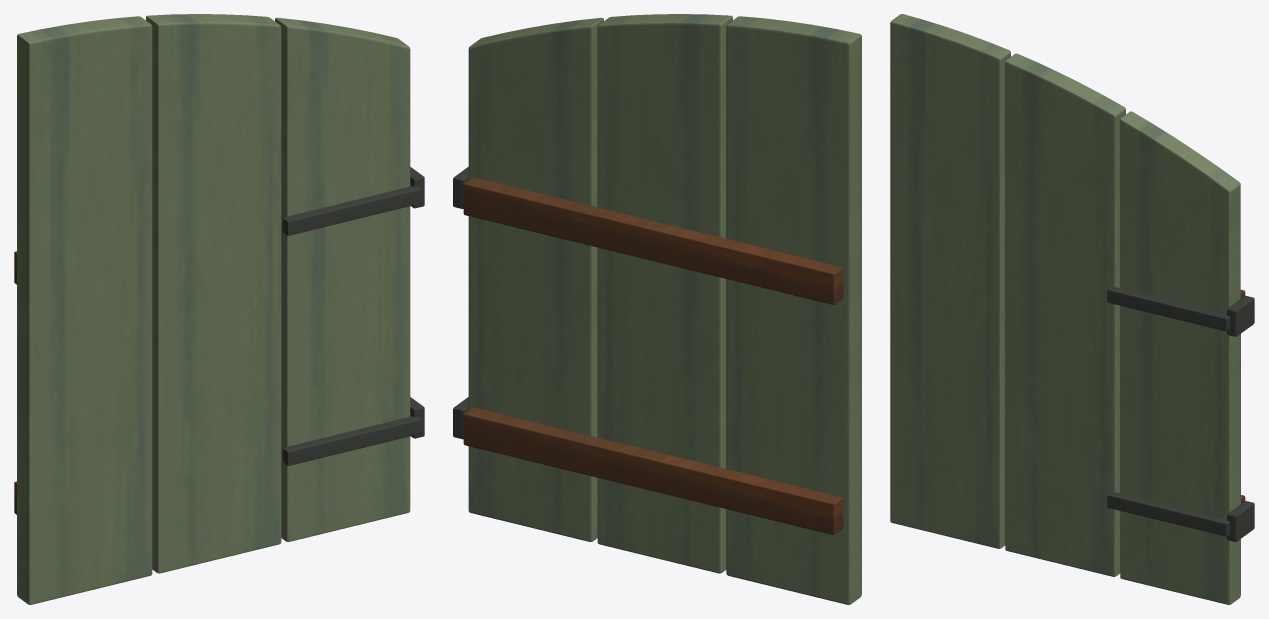
The model's file is CM_PairedWindowBay02_Shutter_L.fbx.
3 views of the same model, side by side, from view 1: azimuth 30°, elevation 25°; view 2: azimuth 150°, elevation 25°; view 3: azimuth 330°, elevation 25° (orthographic). The views are drawn at different scales.
Visible parts, largest first — view 1: CM_PairedWindowBay02_Shutter_L_Geometry; view 2: CM_PairedWindowBay02_Shutter_L_Geometry; view 3: CM_PairedWindowBay02_Shutter_L_Geometry.
Boxes of the visible parts, x1,y1,x2,y2 form: CM_PairedWindowBay02_Shutter_L_Geometry: (14,14,424,604); CM_PairedWindowBay02_Shutter_L_Geometry: (453,14,861,604); CM_PairedWindowBay02_Shutter_L_Geometry: (890,14,1254,604).
Size of the model in its own units: 0.963 by 1.32 by 0.1255.
